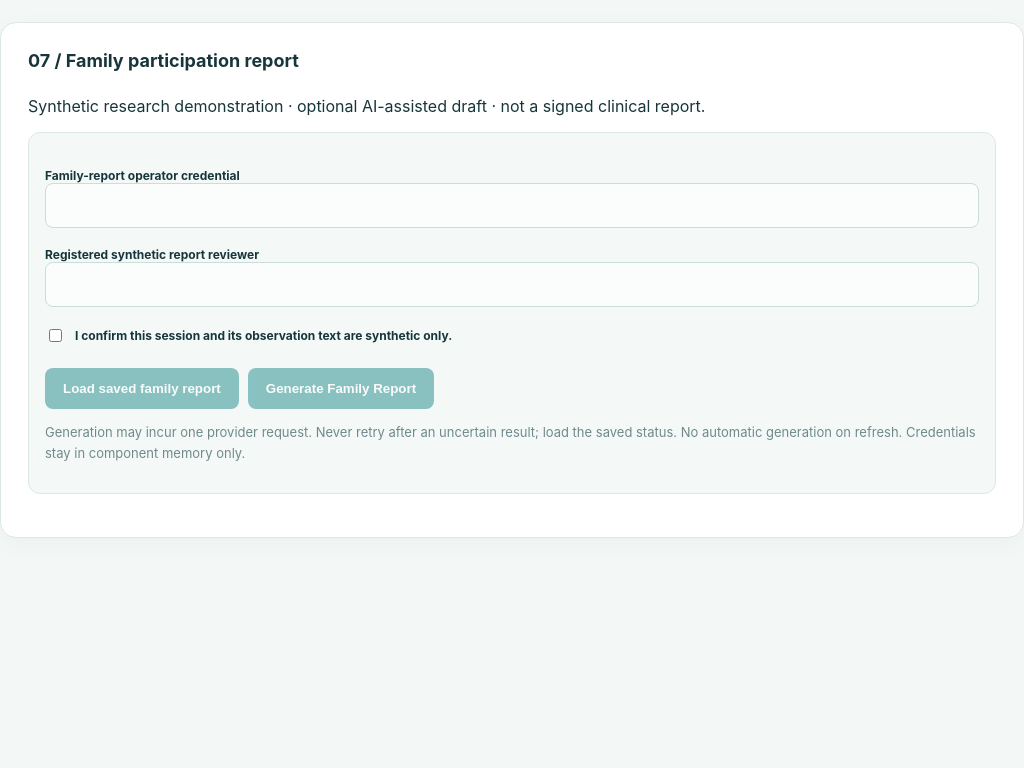
Scenario: keeps failures unapproved and stale evidence non-approvable
Type "synthetic-test-operator-secret" into the password field labelled "Family-report operator credential" at (512, 206), box [45,183,979,228]
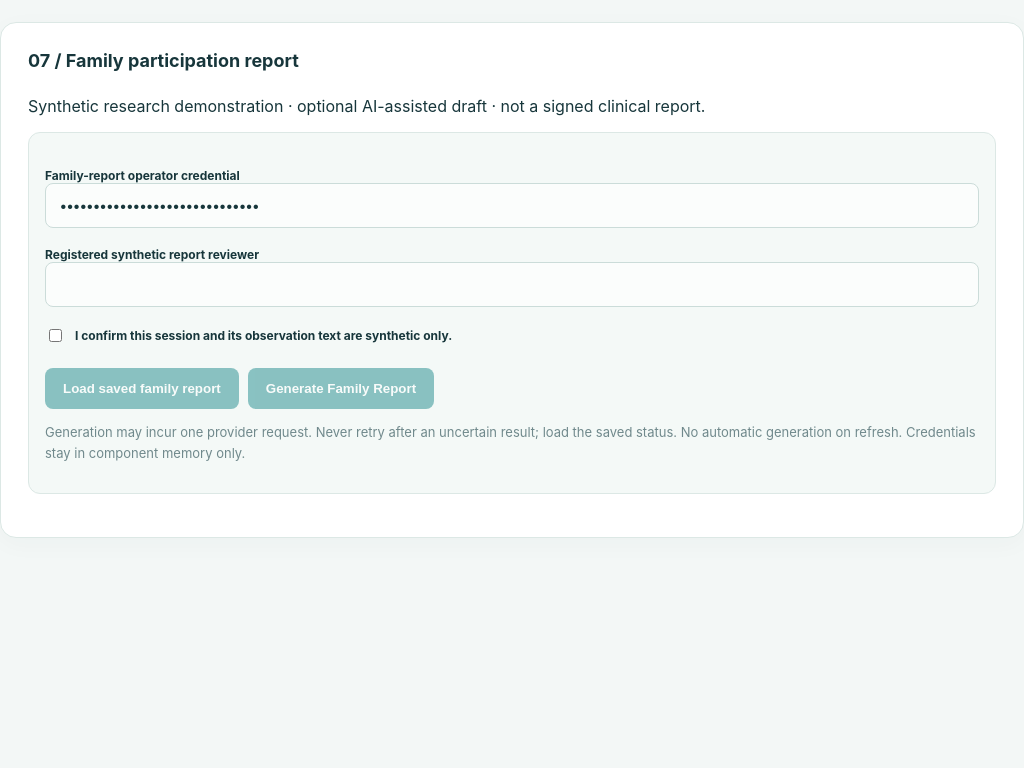
Type "synthetic-reviewer" into the field labelled "Registered synthetic report reviewer" at (512, 284), box [45,262,979,307]
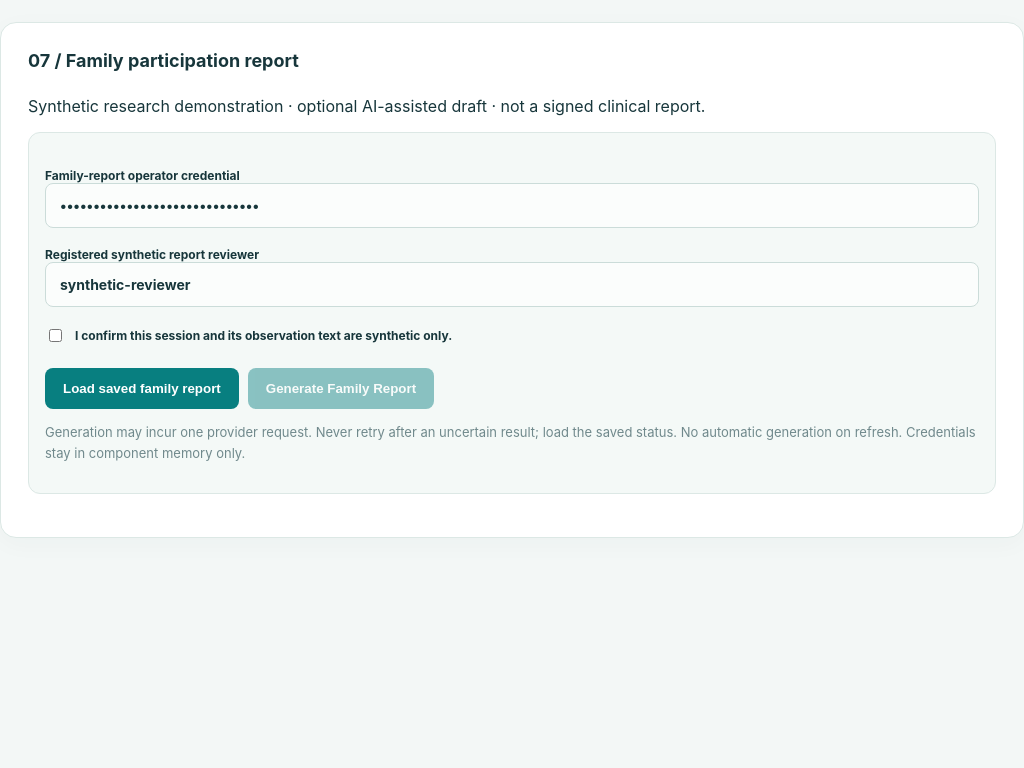
Click the checkbox labelled "I confirm this session" at (56, 336), box [49,329,62,342]
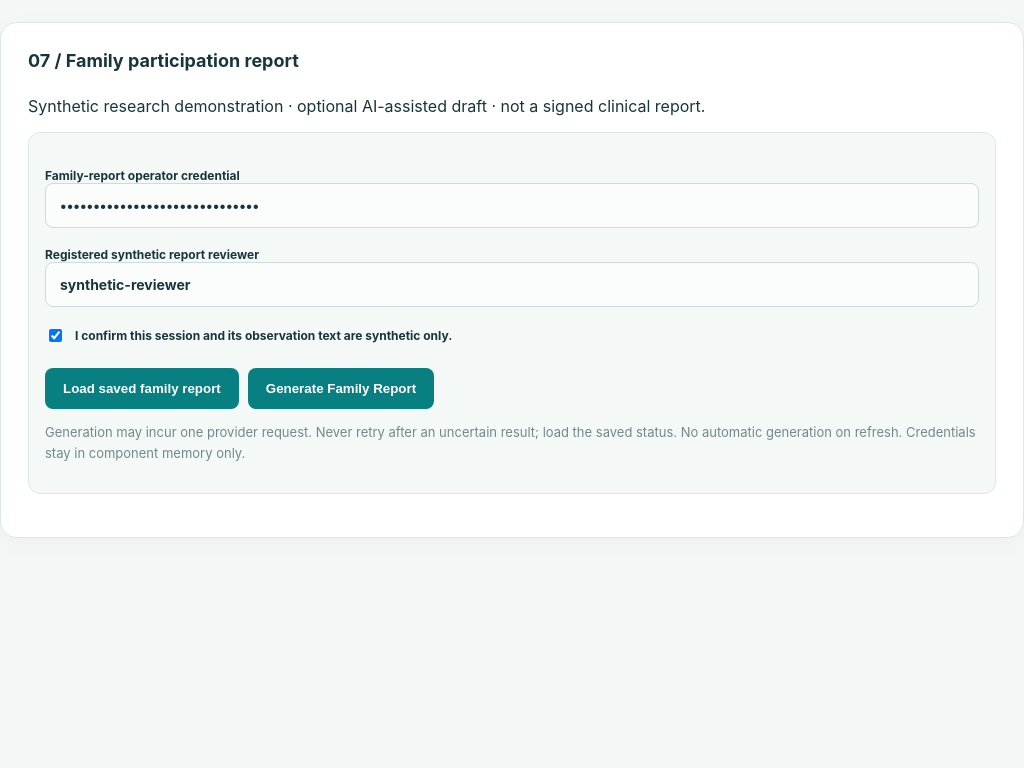
Click the button "Generate Family Report" at (341, 389), box [248,368,434,409]
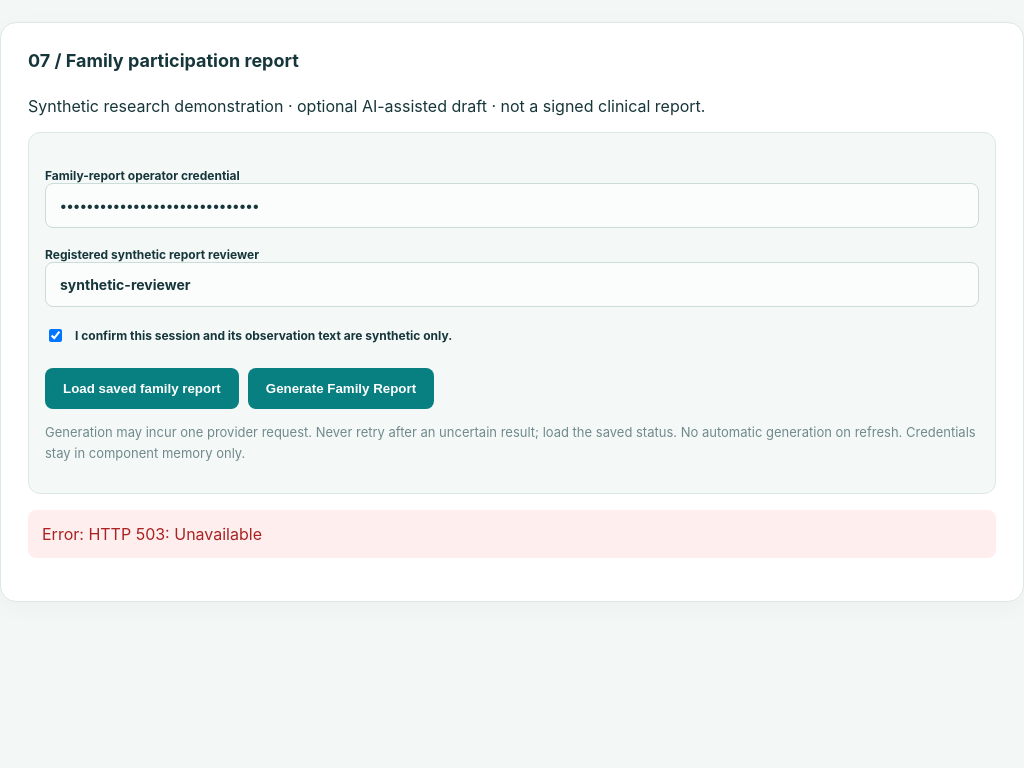
Expected: the text "Approved" is not shown
Now the message shows "503", box [42,524,262,544]
Click the button "Load saved family report" at (142, 389), box [45,368,239,409]
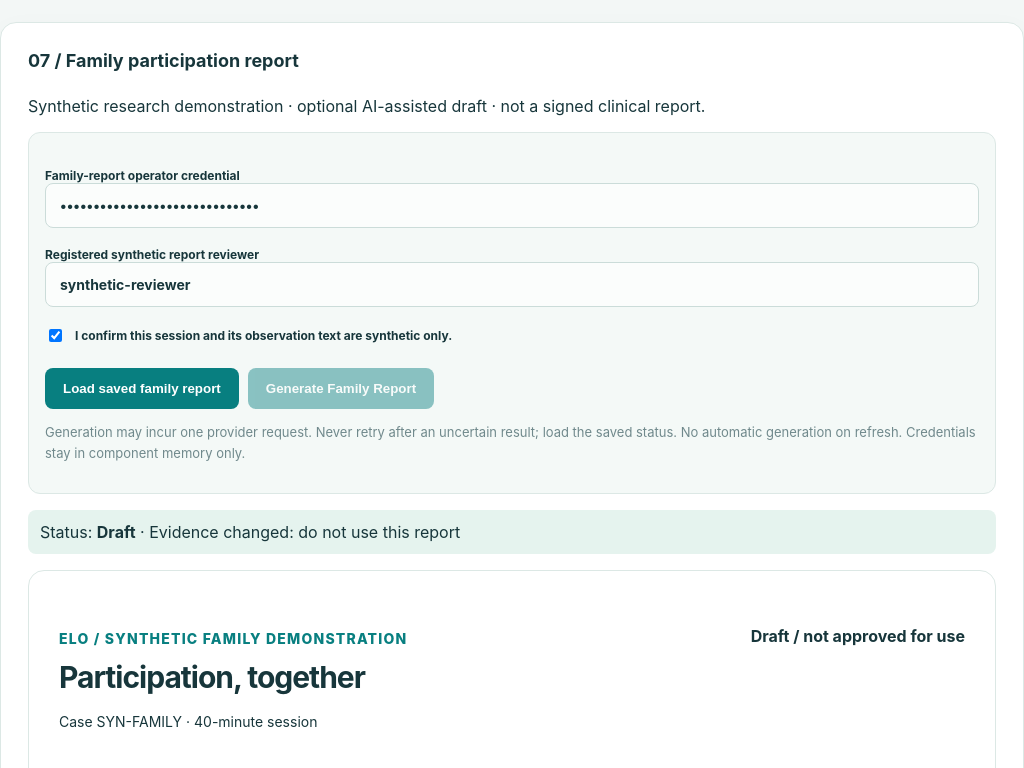
Expected: the button "Approve synthetic family draft" is not shown
Now the text "Status: Draft · Evidence changed: do not use this report" is shown, box [136,522,460,542]
